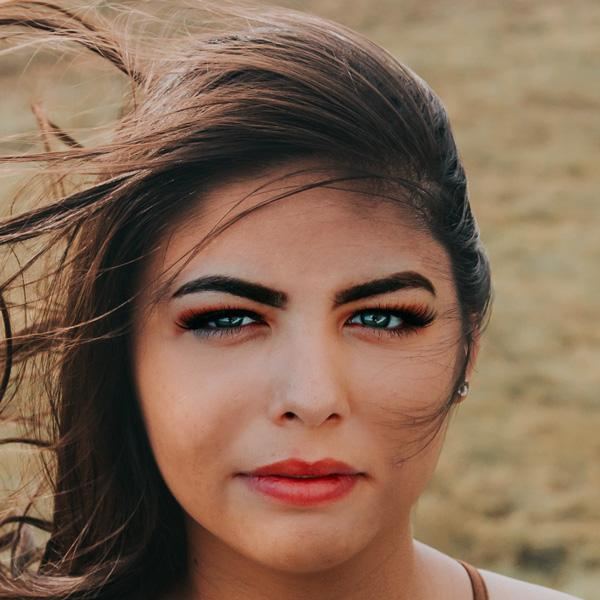Eyes: (164, 294, 278, 350), (336, 296, 444, 345)
